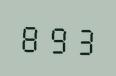eight: (18, 17, 43, 55)
nine: (45, 19, 70, 56)
three: (71, 20, 96, 57)
